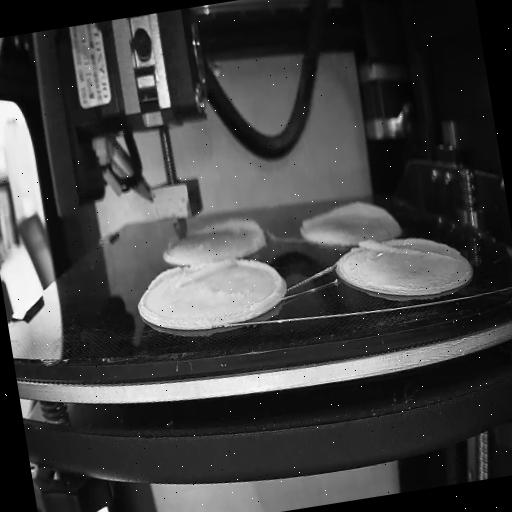over_extrusion: (356, 225, 452, 276), (297, 194, 393, 236), (234, 250, 288, 312), (144, 257, 234, 293), (201, 212, 268, 254)
